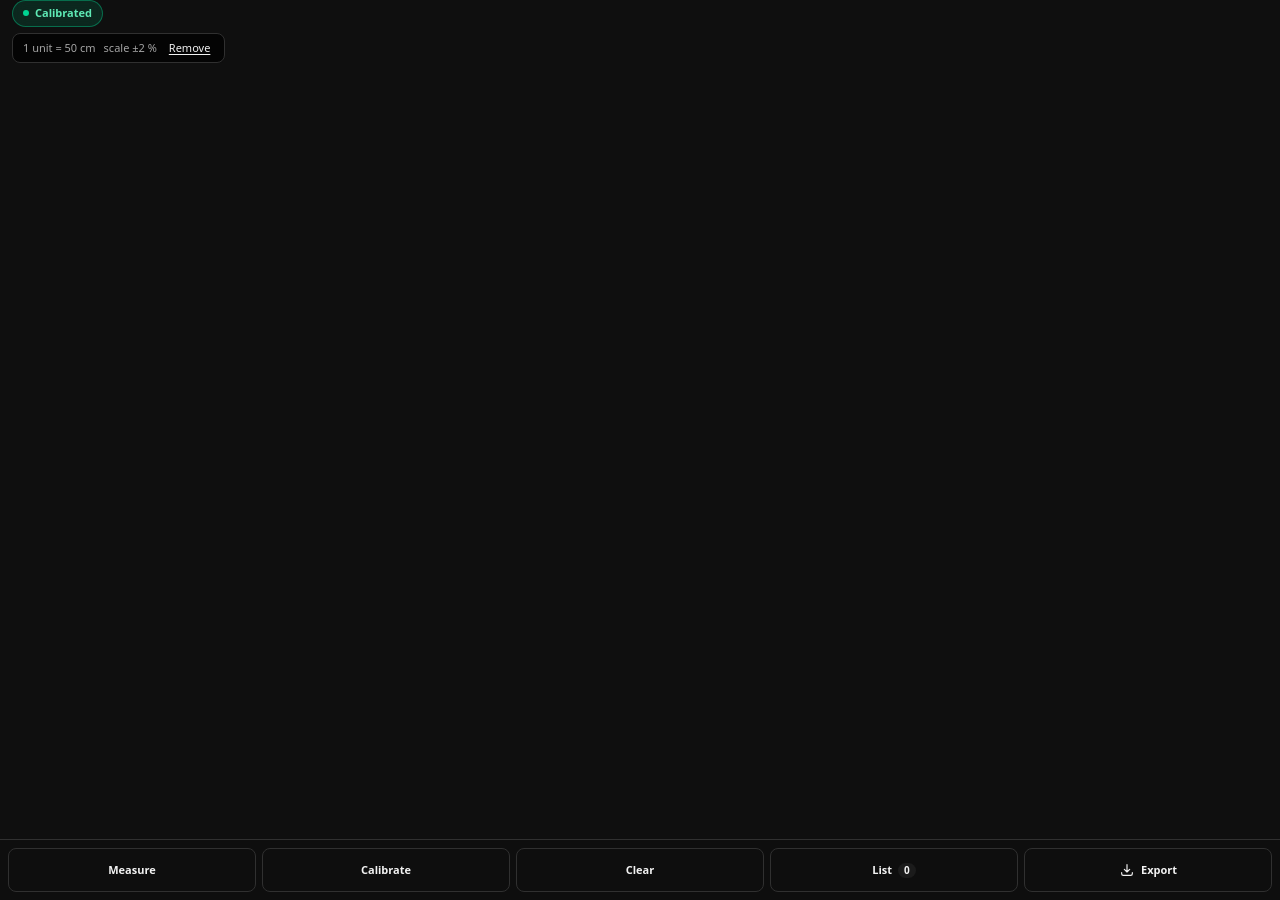
Test: uncertainty in the UI › explains a row that has no ± instead of leaving it blank
Click the button "List 0": (894, 870) [770,848,1018,892]
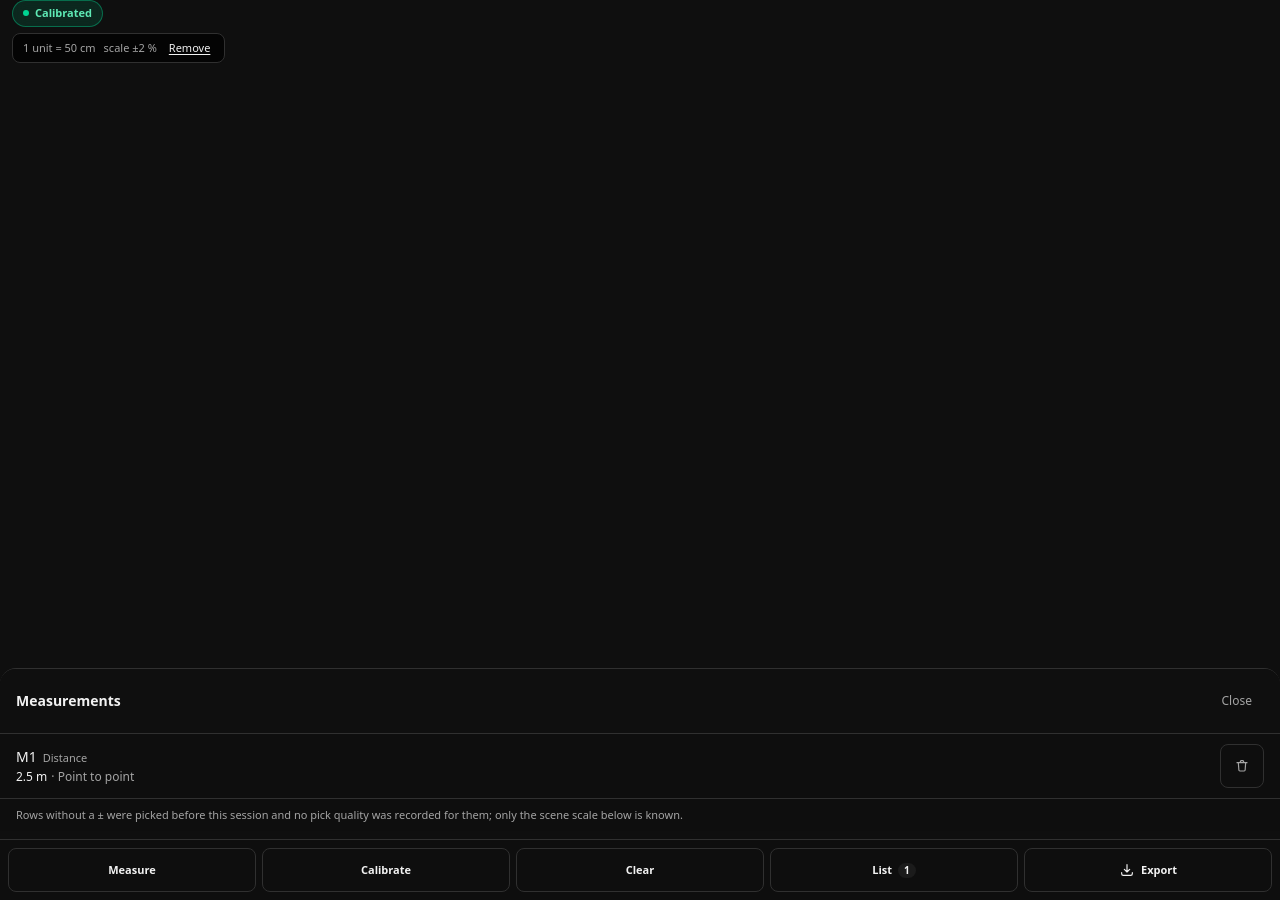
Check: the text "· Point to point" is shown, box [51,768,134,784]
Check: the text "only the scene scale" is shown, box [16,806,683,822]
